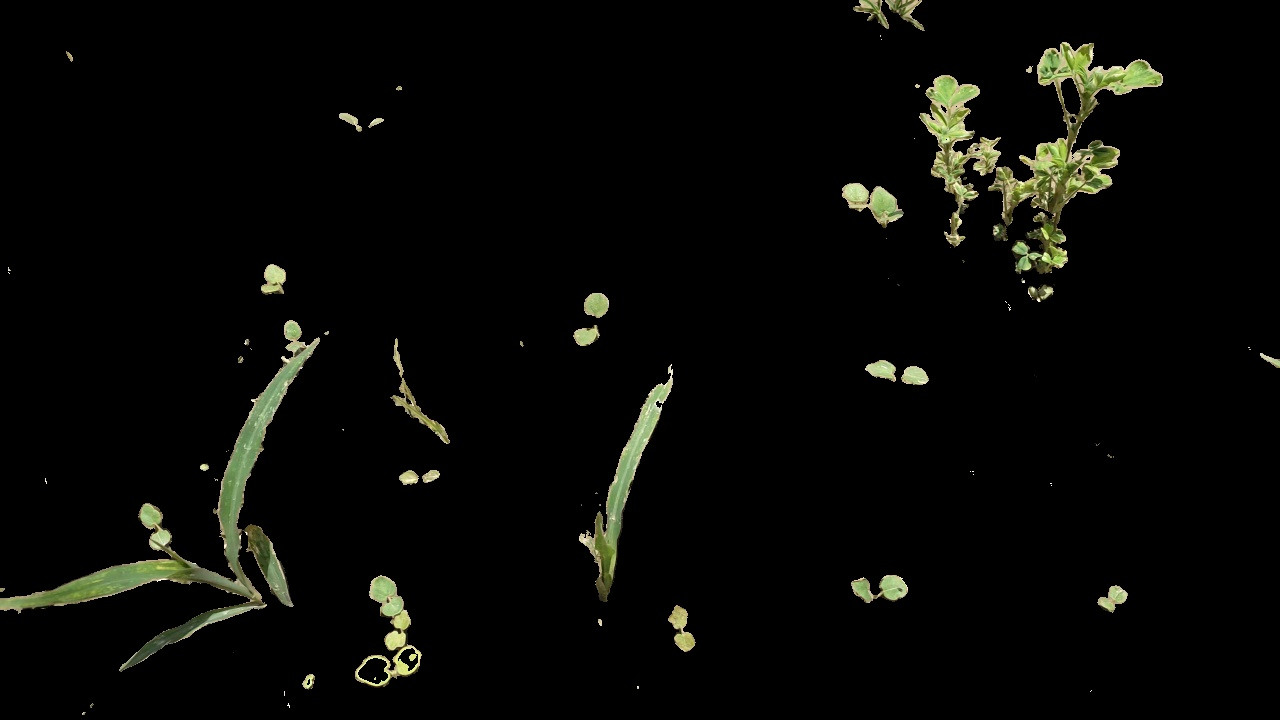crop: (178, 334, 330, 651), (10, 554, 311, 674), (559, 369, 670, 615)
weed: (910, 38, 1170, 299), (347, 563, 435, 691), (833, 173, 904, 235), (569, 281, 611, 360), (847, 566, 919, 611), (863, 350, 932, 391), (339, 102, 393, 140), (133, 496, 172, 547), (668, 601, 701, 661), (399, 465, 444, 495), (259, 257, 289, 300), (1091, 585, 1127, 614)
